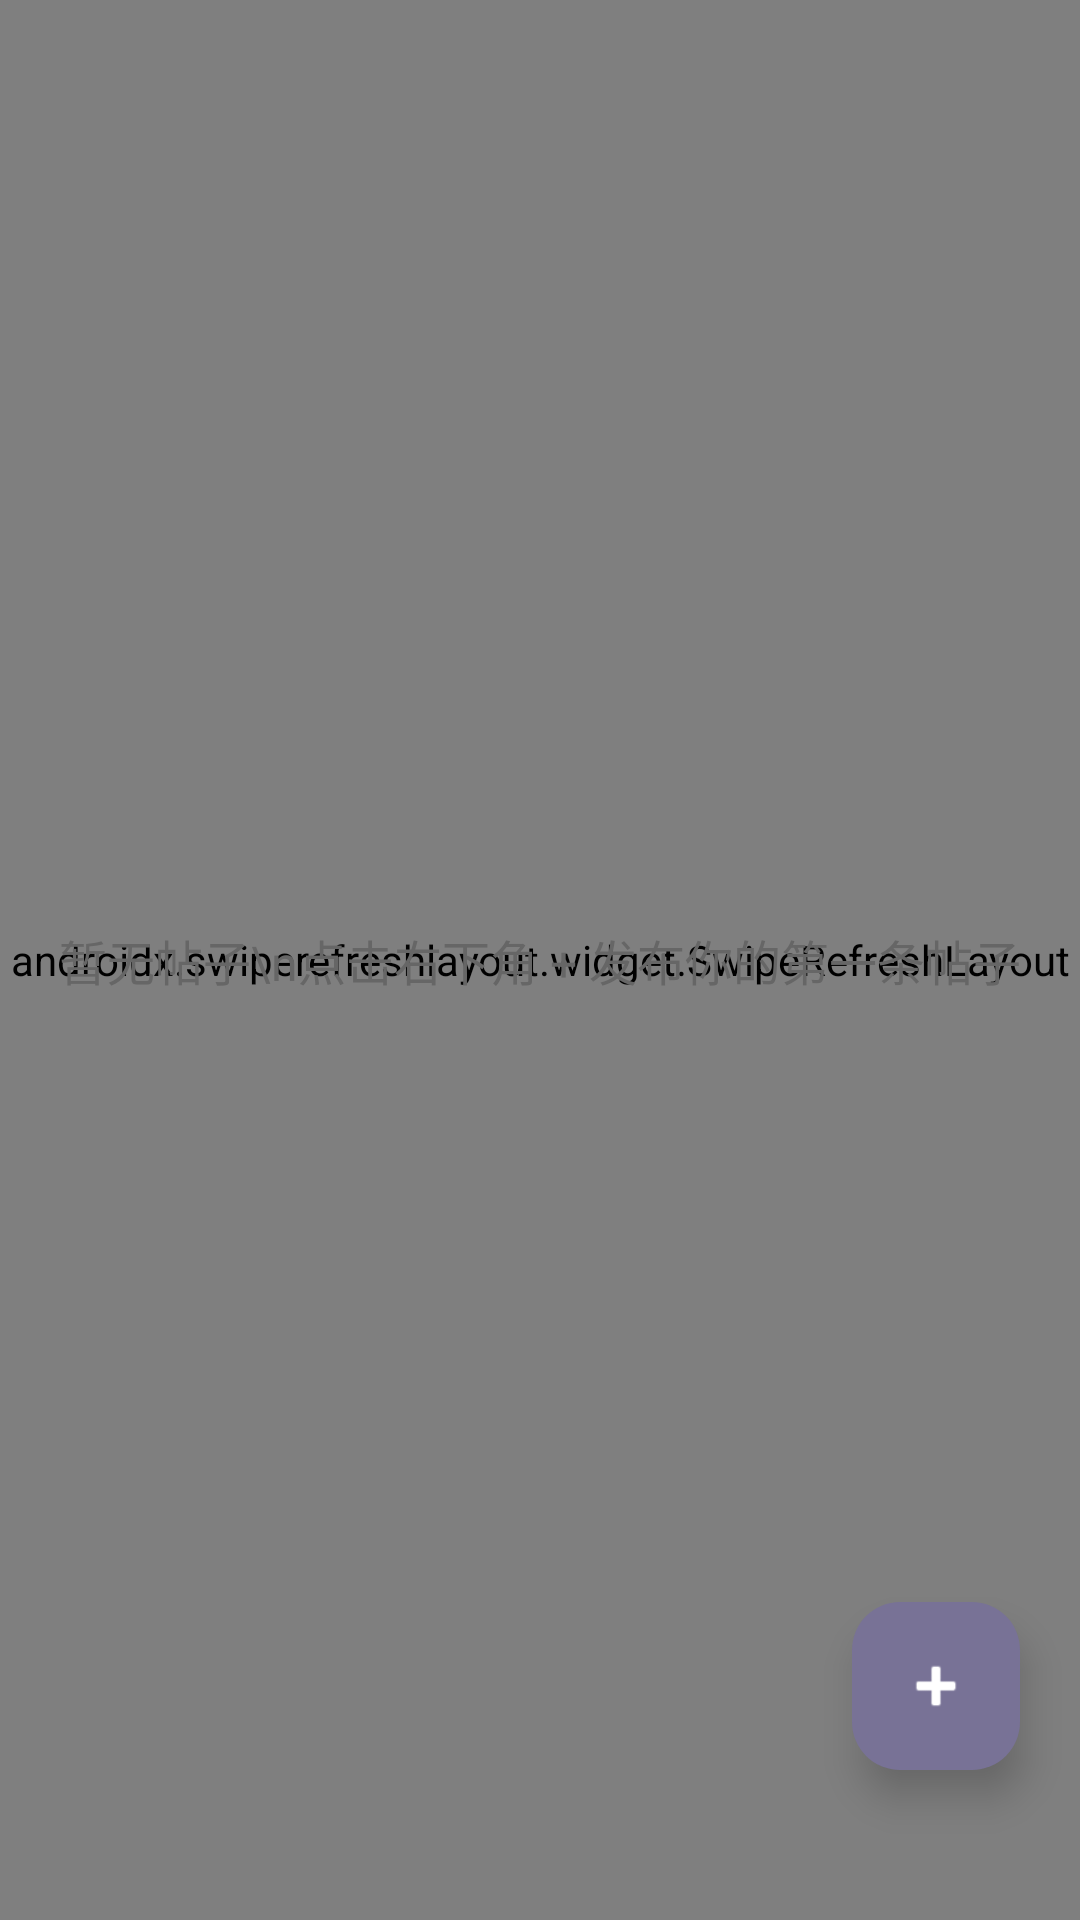

Icons on this 1080×1920 Android screen, each with its box as (x1, y1, x2, y2):
new post: (852, 1602, 1020, 1770)
